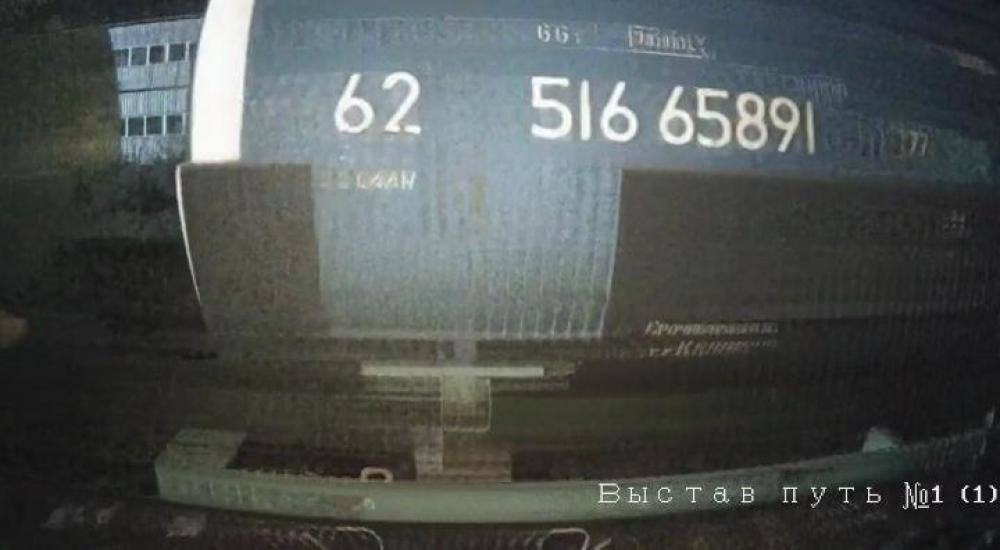Wagon-number: (524, 72, 824, 157)
